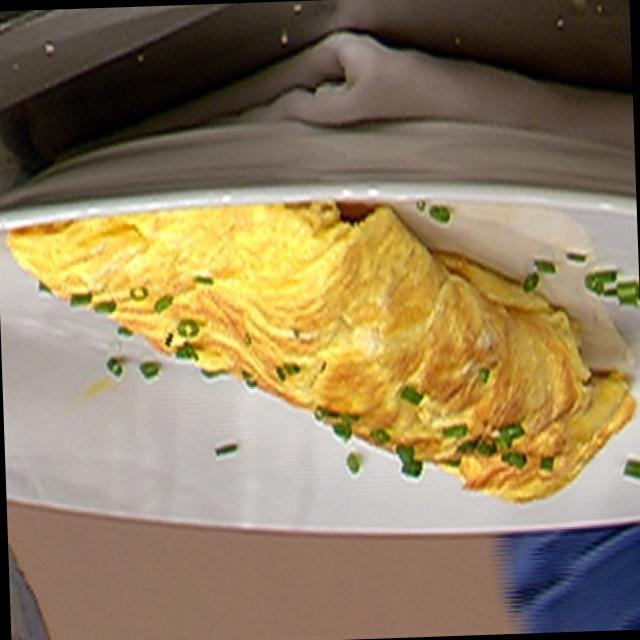Omelet: (6, 185, 640, 522)
